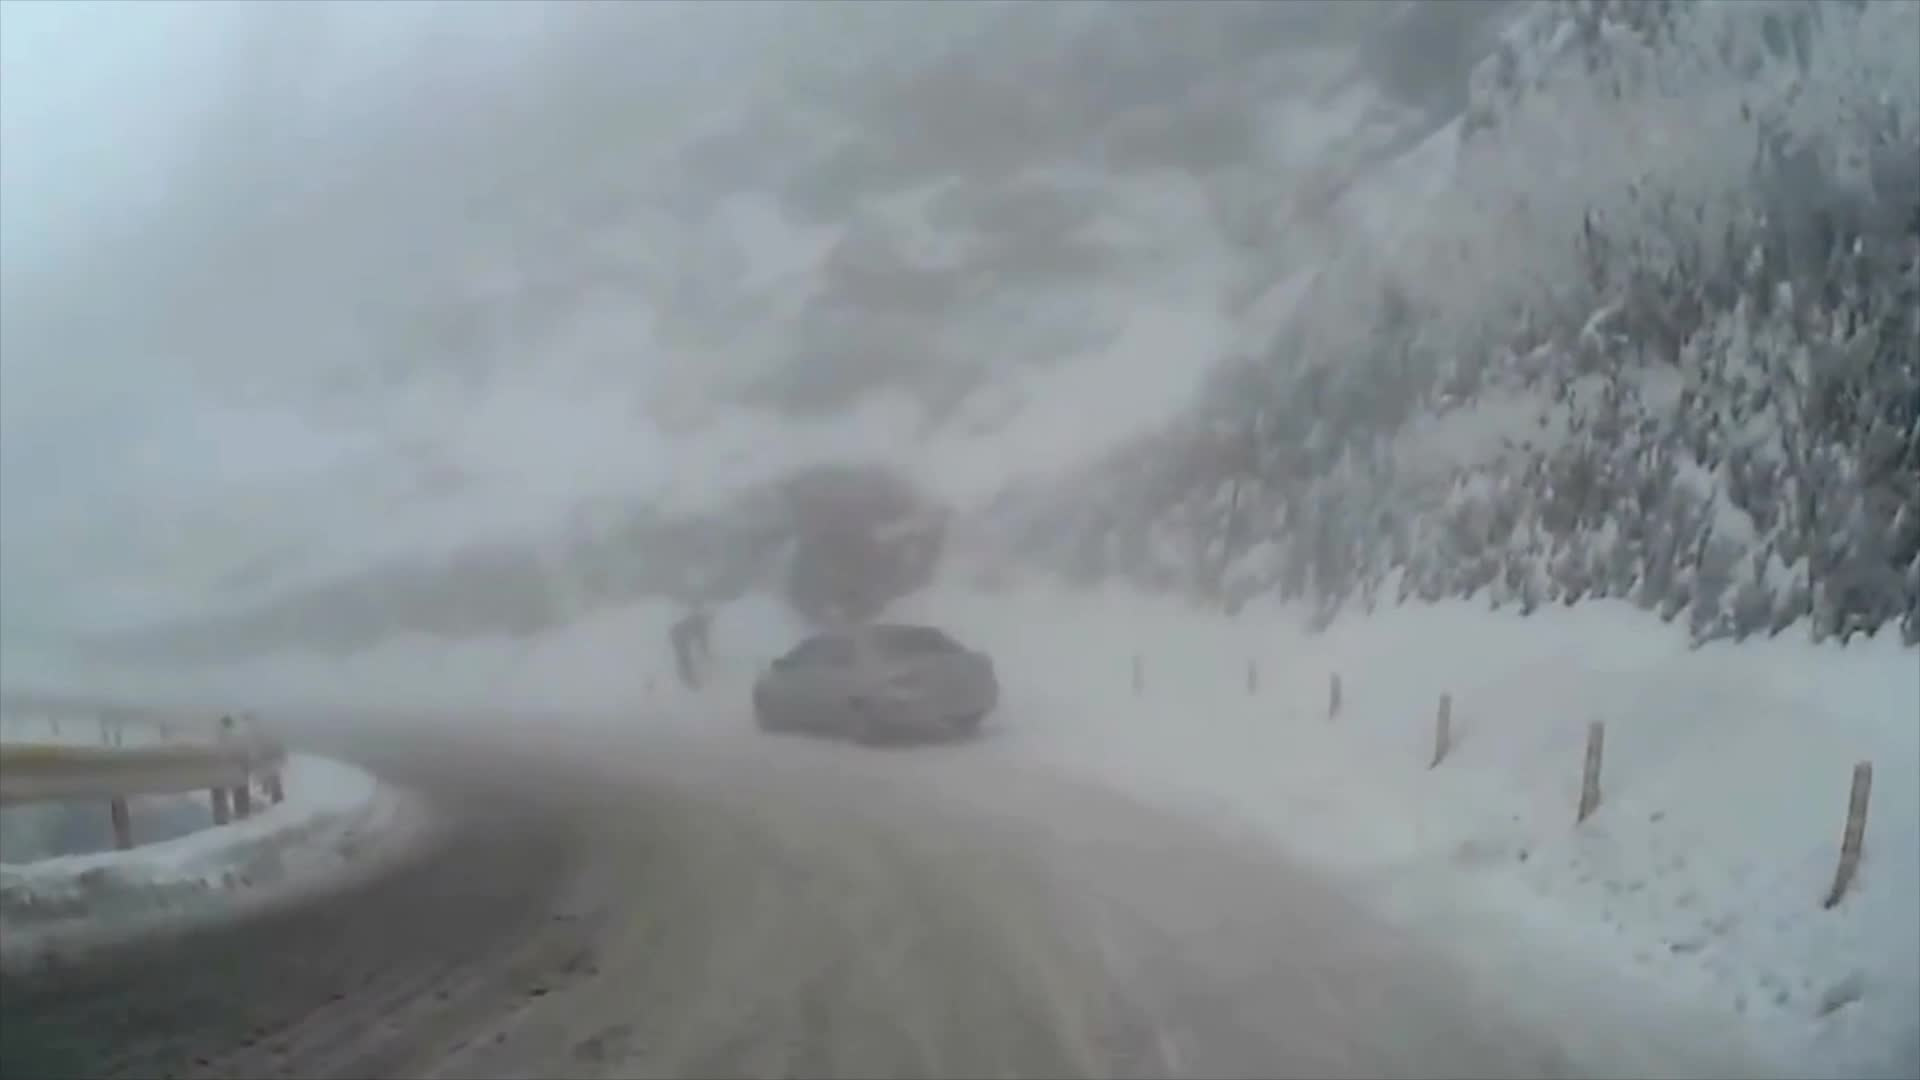pedestrian: (670, 613, 715, 694)
vehicle: (752, 625, 998, 749)
